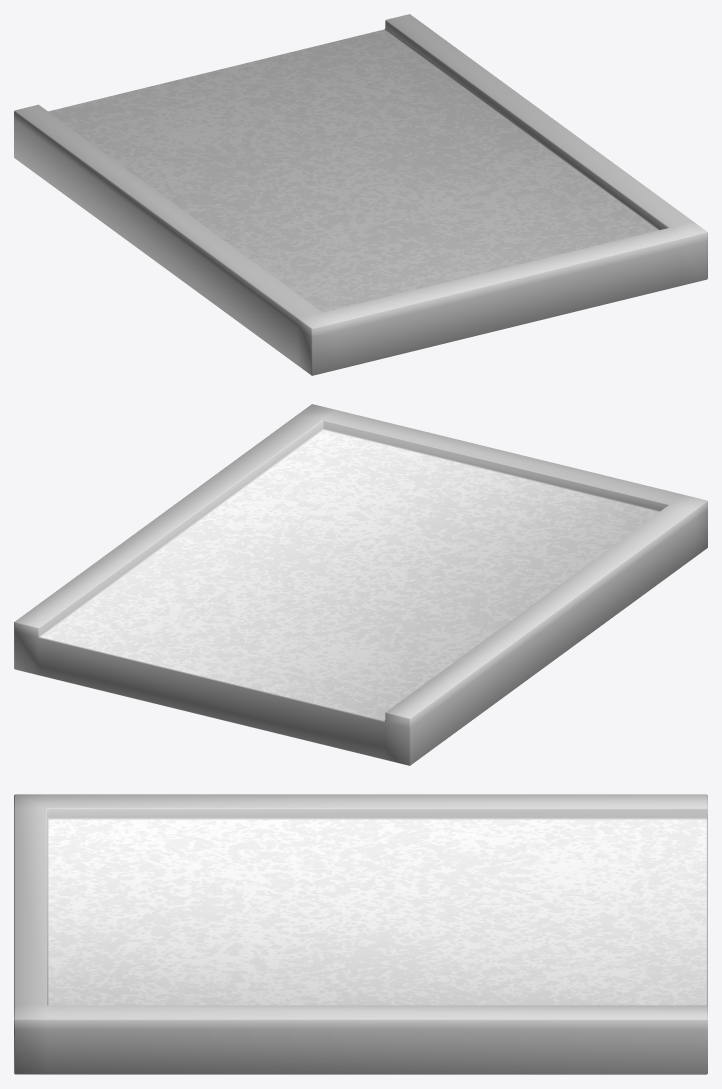
The model's file is Ground.fbx.
The picture shows the model from 3 angles, top to bottom: view 1: azimuth 30°, elevation 25°; view 2: azimuth 150°, elevation 25°; view 3: azimuth 270°, elevation 25°; orthographic projection. The views are drawn at different scales.
Visible parts, largest first — view 1: Ground; view 2: Ground; view 3: Ground.
Boxes of the visible parts, bbox=[...] form: Ground: bbox=[14, 14, 707, 375]; Ground: bbox=[14, 404, 707, 765]; Ground: bbox=[14, 794, 707, 1074].
Bounding box in the file's own units: 2136 × 247 × 2780.
